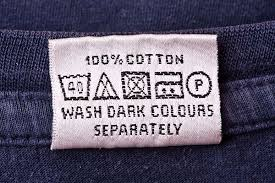ER_dry_clean_chemical: (184, 69, 214, 99)
ER_iron_medium_temp: (152, 69, 185, 101)
ER_no_bleach: (93, 72, 120, 101)
ER_no_tumble_dry: (119, 68, 154, 102)
ER_wash_40: (57, 71, 91, 103)
